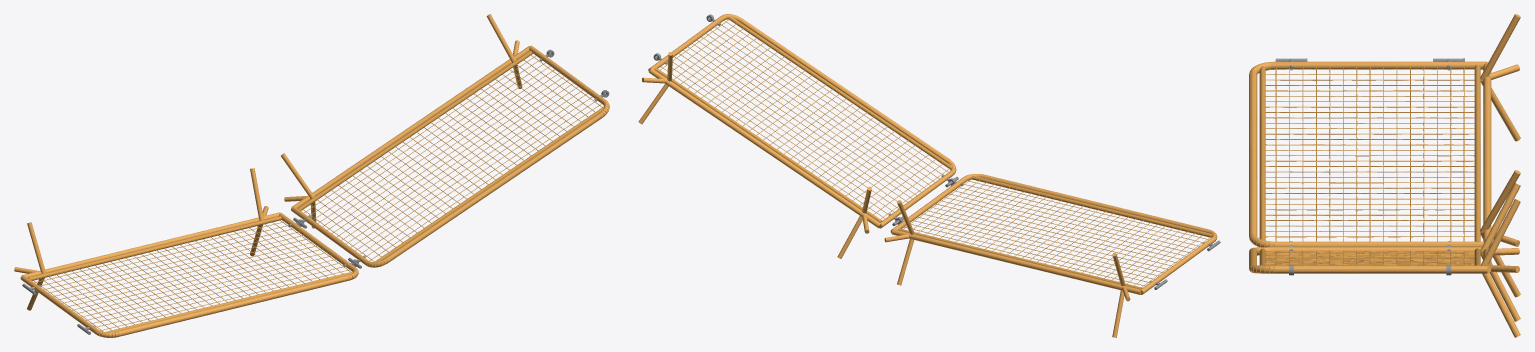
The picture shows the model from 3 angles, left to right: view 1: azimuth 30°, elevation 25°; view 2: azimuth 150°, elevation 25°; view 3: azimuth 270°, elevation 25°; orthographic projection. The views are drawn at different scales.
Visible parts, largest first — view 1: panel_0__infill, panel_0__frame, panel_0__eye_top; view 2: panel_0__infill, panel_0__frame, panel_0__eye_top; view 3: panel_0__infill, panel_0__frame, panel_0__eye_top.
Part boxes in pixels (left/top/right/bottom): panel_0__infill: left=28, top=50, right=604, bottom=332; panel_0__frame: left=14, top=14, right=609, bottom=337; panel_0__eye_top: left=22, top=49, right=609, bottom=334; panel_0__infill: left=655, top=16, right=1212, bottom=289; panel_0__frame: left=638, top=14, right=1217, bottom=337; panel_0__eye_top: left=653, top=14, right=1220, bottom=289; panel_0__infill: left=1259, top=65, right=1480, bottom=265; panel_0__frame: left=1249, top=14, right=1520, bottom=337; panel_0__eye_top: left=1275, top=58, right=1464, bottom=275.
Size of the model in its own units: 4.09 by 1.37 by 1.28.
